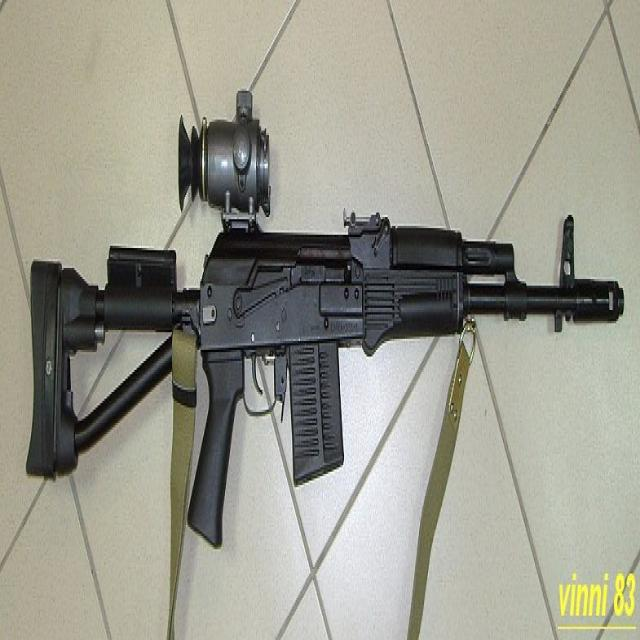firearm: (25, 85, 624, 550)
